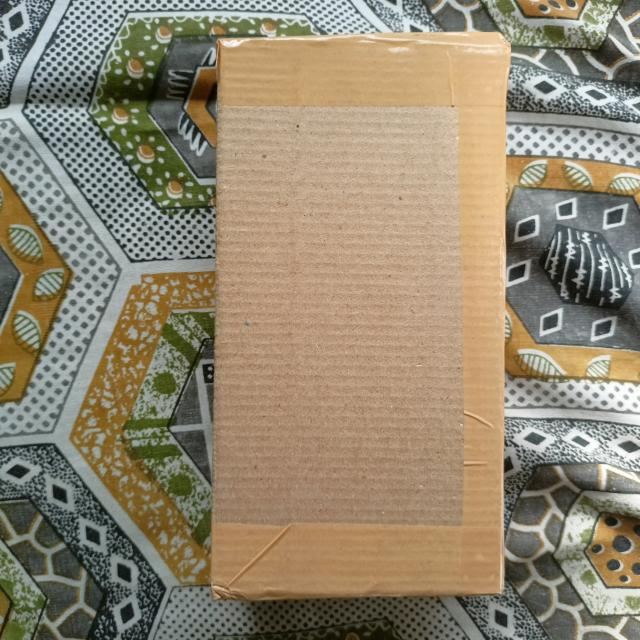box: (208, 30, 513, 606)
